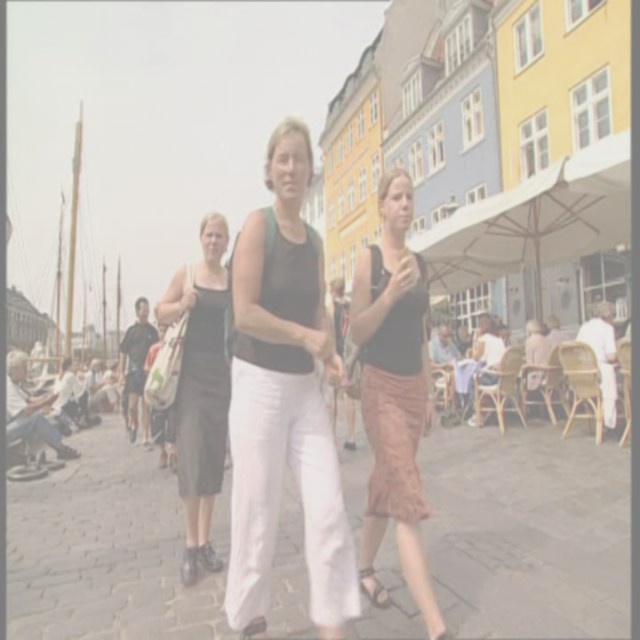pessoa: (210, 104, 374, 639), (344, 168, 457, 639), (154, 206, 234, 586), (4, 348, 81, 468), (141, 310, 187, 476), (116, 295, 162, 439), (574, 298, 620, 432), (467, 315, 508, 428), (514, 318, 554, 406), (48, 356, 88, 436), (325, 275, 353, 363), (63, 357, 96, 430), (84, 356, 122, 416), (425, 321, 464, 363), (453, 318, 474, 357), (543, 312, 566, 346), (423, 305, 442, 333), (103, 356, 118, 380)
